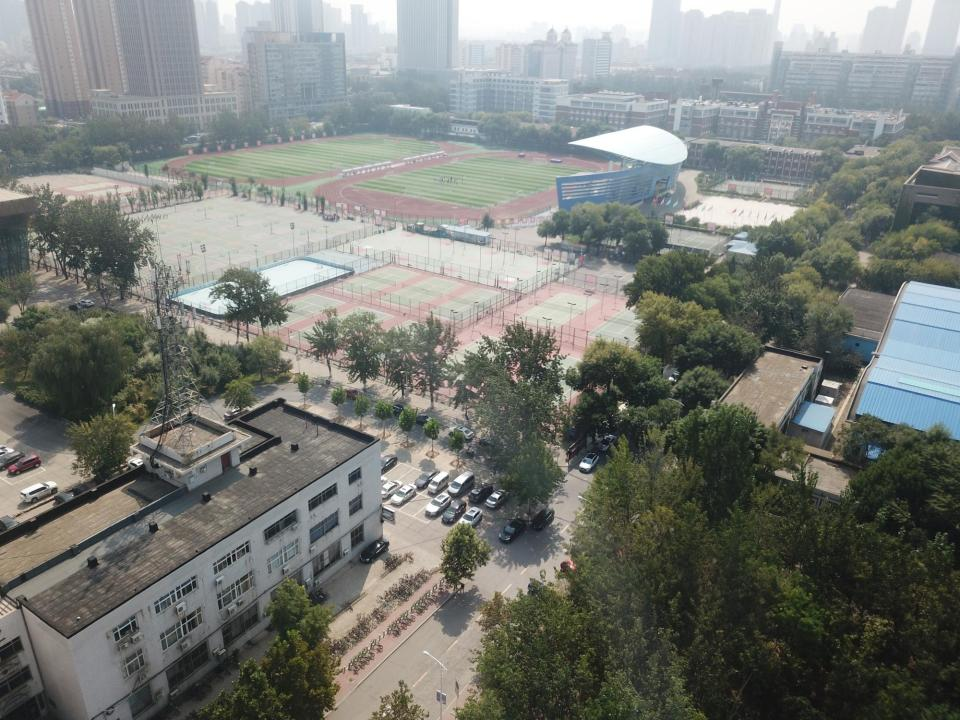car: (360, 538, 390, 564), (560, 558, 587, 586), (54, 491, 85, 513), (528, 580, 555, 604), (72, 484, 102, 505), (442, 499, 466, 523), (390, 483, 416, 505), (458, 506, 482, 529), (413, 468, 440, 488), (127, 458, 154, 478), (531, 508, 554, 530), (485, 489, 510, 509), (374, 454, 398, 474), (378, 480, 403, 499), (479, 436, 504, 452), (366, 475, 388, 493), (449, 426, 474, 440), (597, 434, 616, 452), (410, 414, 435, 426), (223, 408, 248, 420), (342, 388, 360, 400), (77, 299, 95, 308), (69, 304, 84, 312)
van: (20, 481, 59, 503), (447, 470, 475, 497), (499, 518, 526, 543), (93, 472, 125, 493), (8, 454, 41, 474), (424, 492, 451, 516), (0, 515, 26, 539), (427, 471, 449, 494), (468, 482, 493, 502), (0, 452, 26, 471), (579, 453, 599, 472), (386, 403, 406, 417)
